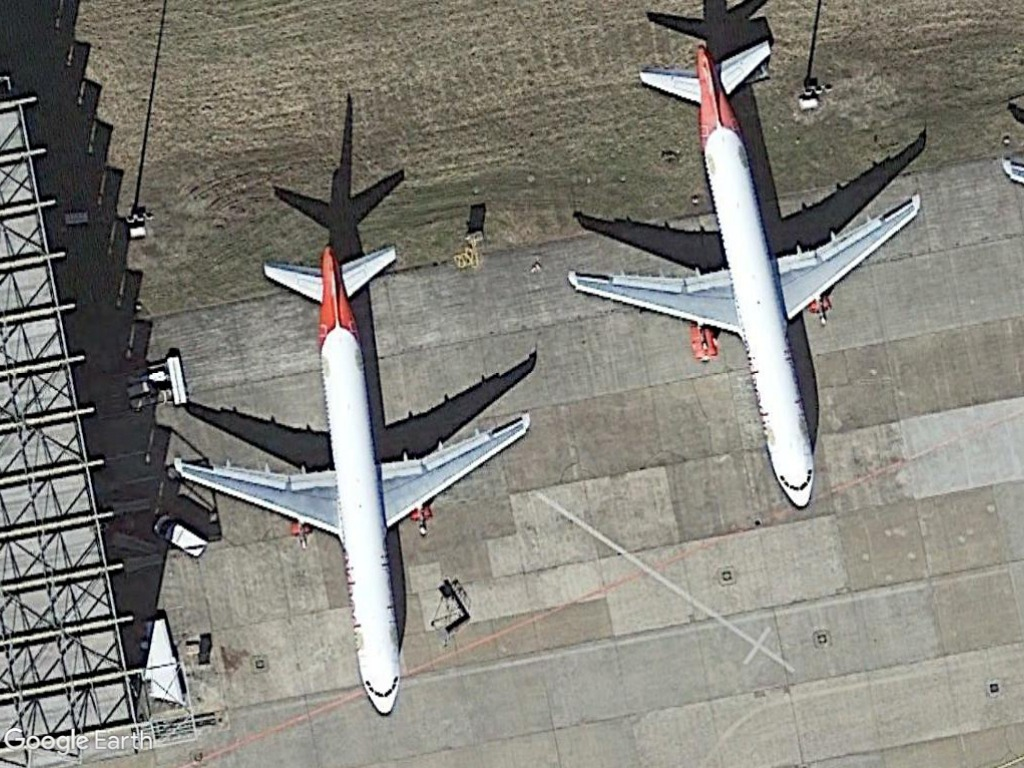airliner: (166, 242, 557, 718), (560, 33, 924, 513)
van: (147, 512, 209, 559)
